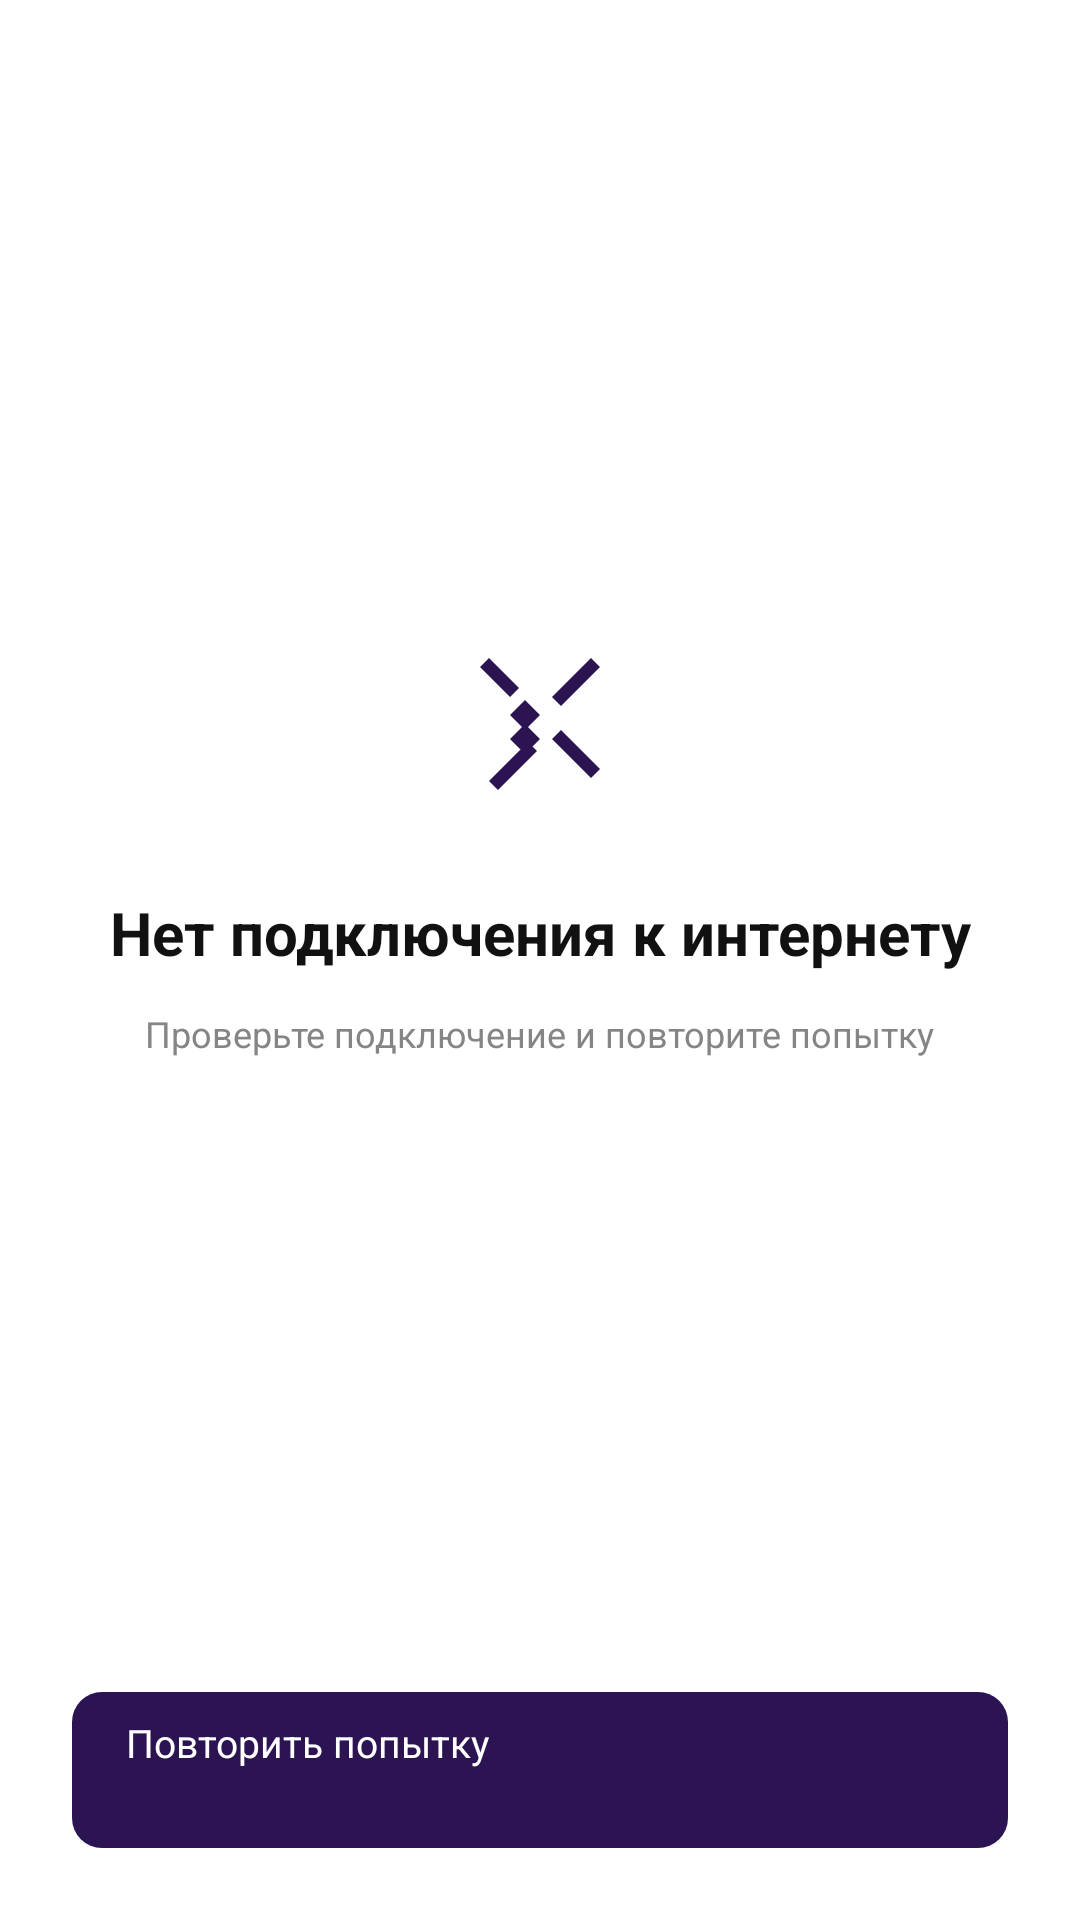

Screen size 1080px x 1920px. Icon name, then its box in pixels as [x1, y1, x2, y2]:
No Connection: [480, 658, 600, 790]
